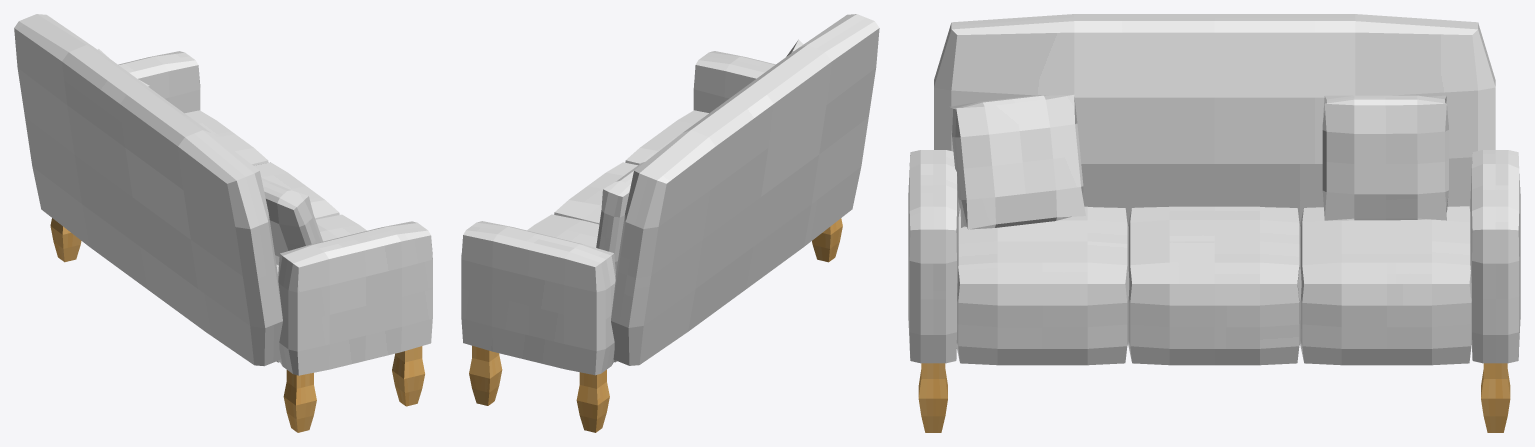
The model's file is simple_long_sofa.obj.
The picture shows the model from 3 angles, left to right: view 1: azimuth 30°, elevation 25°; view 2: azimuth 150°, elevation 25°; view 3: azimuth 270°, elevation 25°; orthographic projection. The views are drawn at different scales.
Parts seen in each view (by area): view 1: Cube.010; view 2: Cube.010; view 3: Cube.010.
Boxes of the visible parts, x1,y1,x2,y2 form: Cube.010: (14, 14, 432, 432); Cube.010: (461, 14, 879, 432); Cube.010: (908, 14, 1520, 432).
Bounding box in the file's own units: 3.18 × 4.23 × 7.3.
